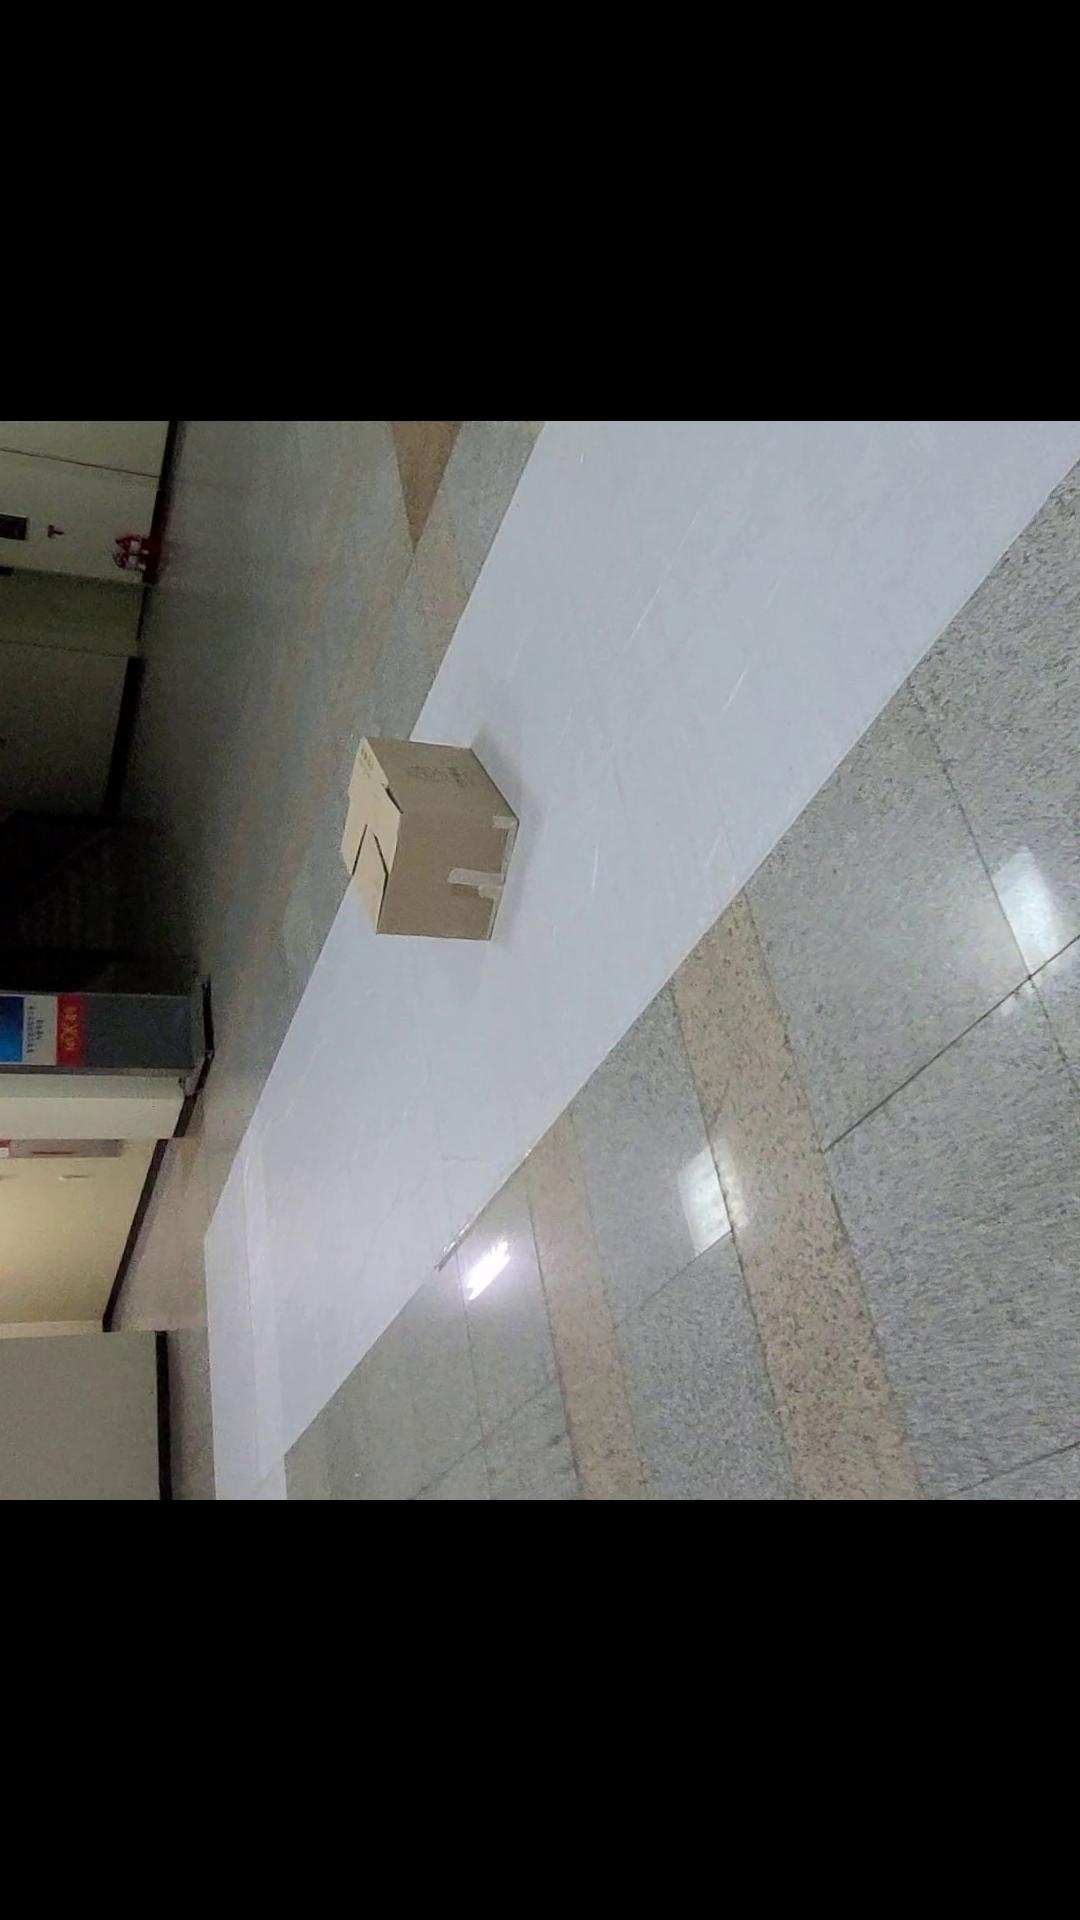Box: (305, 698, 531, 997)
